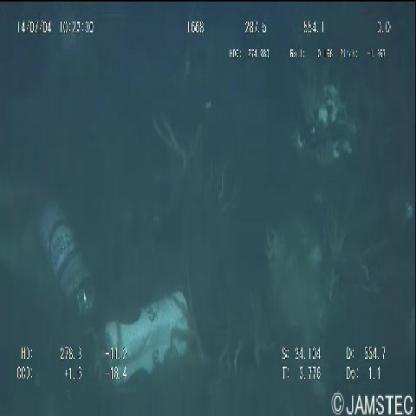Rác: (105, 290, 191, 387)
